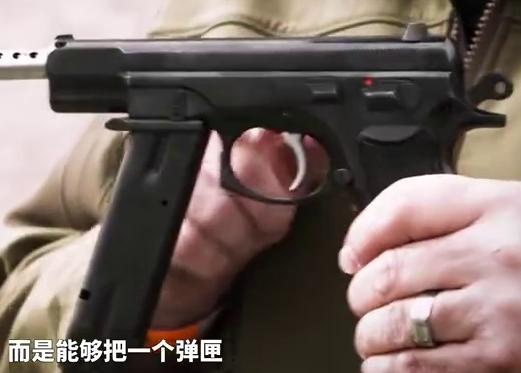gun: (1, 1, 521, 373)
